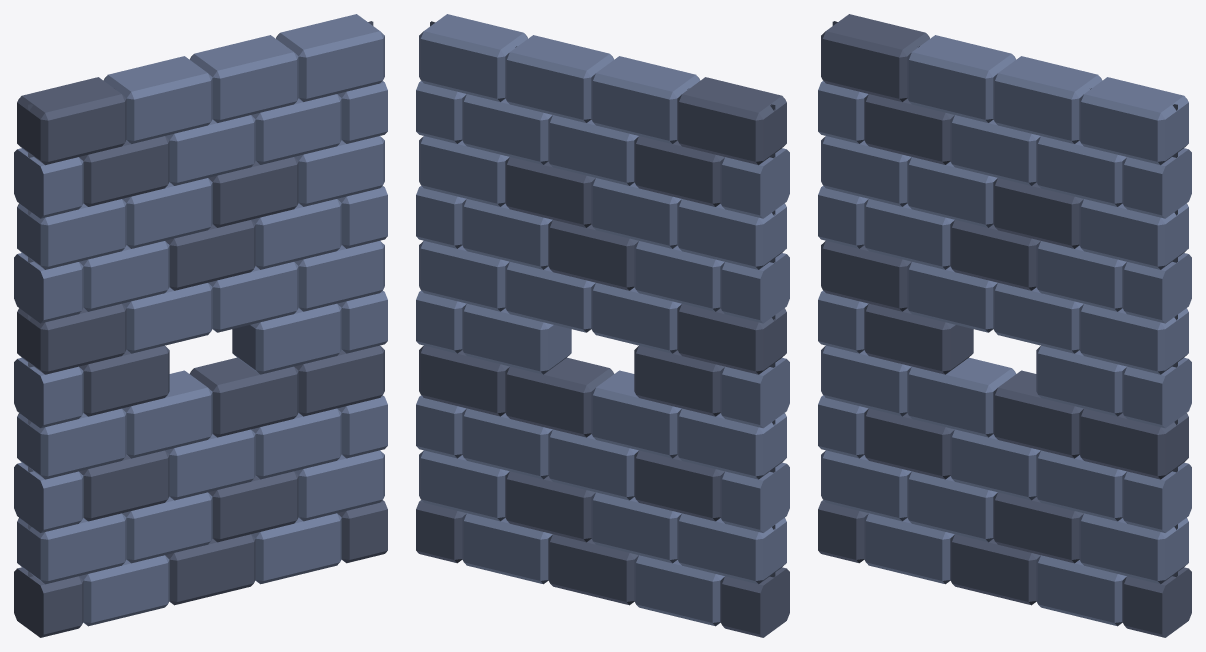
File: brick-wall-004.glb
The picture shows the model from 3 angles, left to right: view 1: azimuth 30°, elevation 25°; view 2: azimuth 150°, elevation 25°; view 3: azimuth 330°, elevation 25°; orthographic projection.
Visible parts, largest first — view 1: brick wall.004; view 2: brick wall.004; view 3: brick wall.004.
Part boxes in pixels (<box>): brick wall.004: <box>14,14,387,637</box>; brick wall.004: <box>416,14,789,637</box>; brick wall.004: <box>818,14,1191,637</box>.
Bounding box in the file's own units: 2 × 2.91 × 0.2968.
